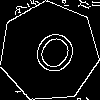O: (24, 27, 82, 87)
